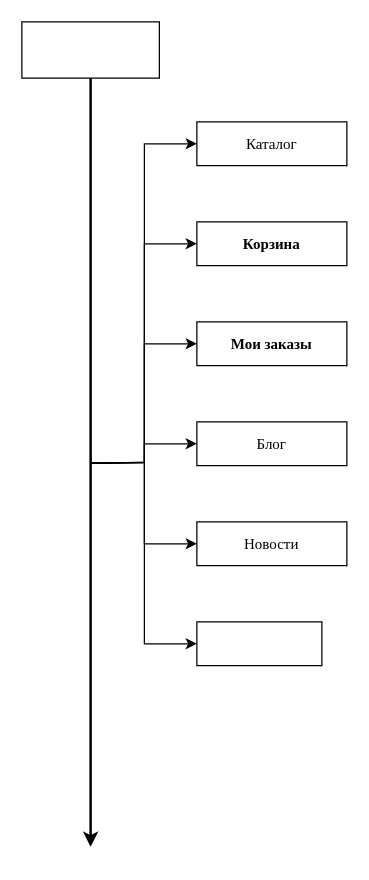
Image size: 369x880. Some labels were removed from this diagram. The centre of each missing label's shape, as x and y in pixels:
Выход: the point at 259,643
Главная: the point at 90,49
